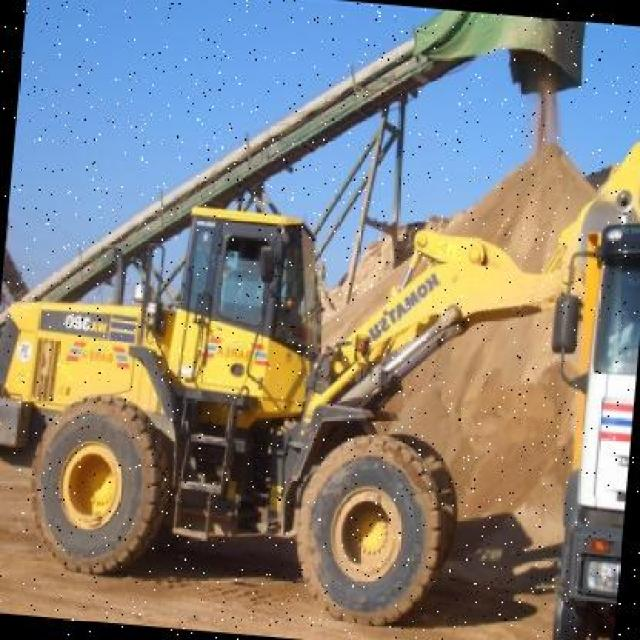buldozerpayloadergrader: (0, 88, 609, 632)
